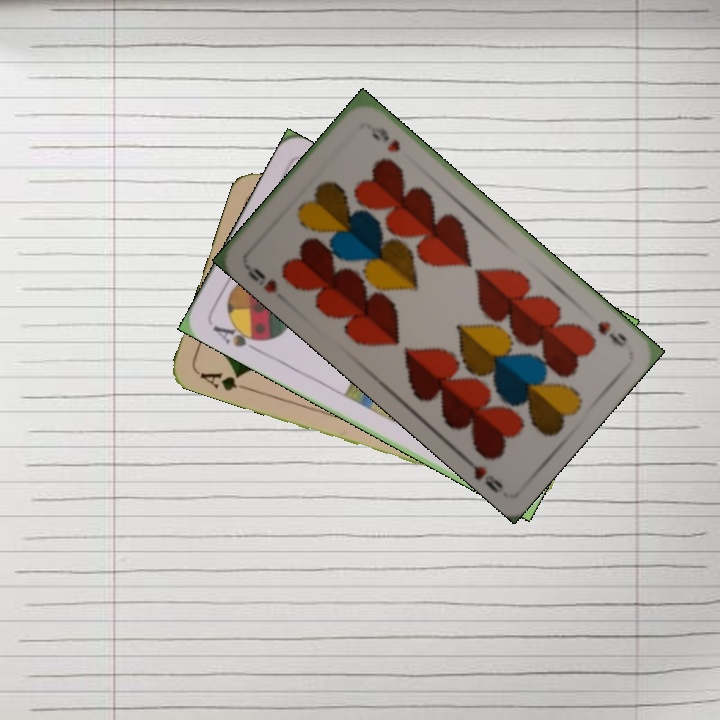GA: (196, 367, 252, 394)
H9: (241, 260, 280, 296), (593, 316, 630, 350)
SA: (208, 317, 267, 355)
